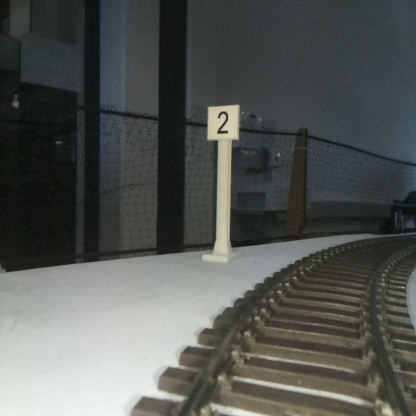white-info-2: (208, 105, 238, 259)
